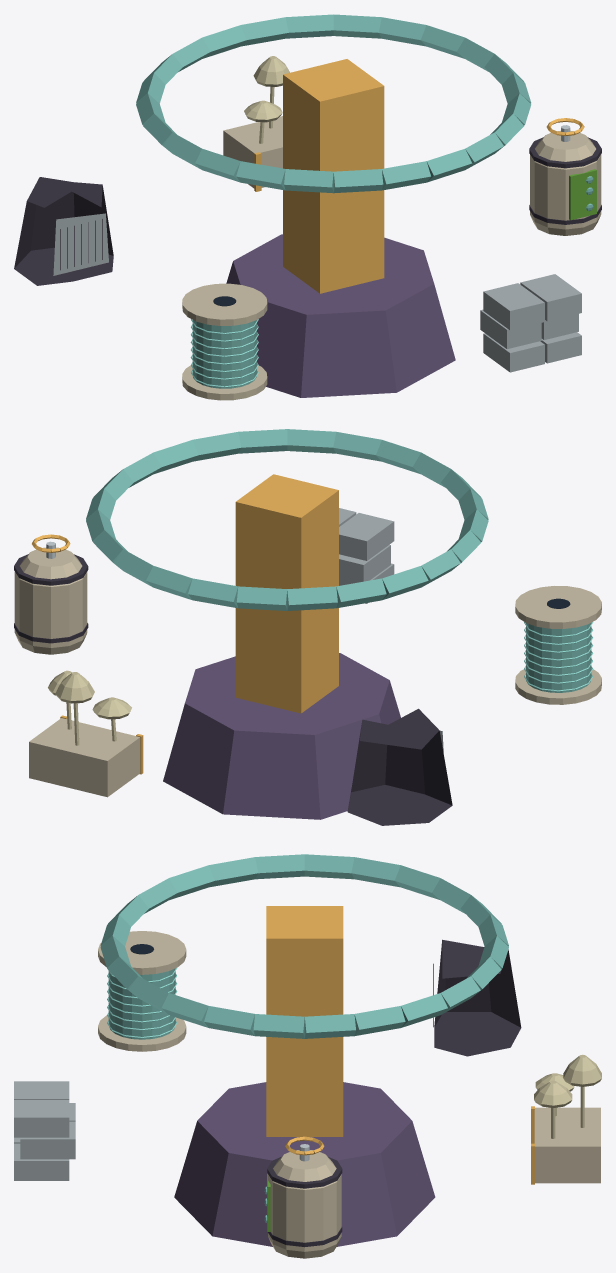
File: space_scene_trade_beacon.glb
The picture shows the model from 3 angles, top to bottom: view 1: azimuth 30°, elevation 25°; view 2: azimuth 150°, elevation 25°; view 3: azimuth 270°, elevation 25°; orthographic projection. The views are drawn at different scales.
Parts seen in each view (by area): view 1: FixedDetails, BrassTrim; view 2: FixedDetails, BrassTrim; view 3: FixedDetails, BrassTrim.
Boxes of the visible parts, <box> form: FixedDetails: <box>14,14,601,400</box>; BrassTrim: <box>190,59,584,387</box>; FixedDetails: <box>14,429,601,825</box>; BrassTrim: <box>32,474,593,774</box>; FixedDetails: <box>14,854,601,1258</box>; BrassTrim: <box>107,906,534,1184</box>.
Bounding box in the file's own units: 0.7651 × 0.395 × 0.7651.
